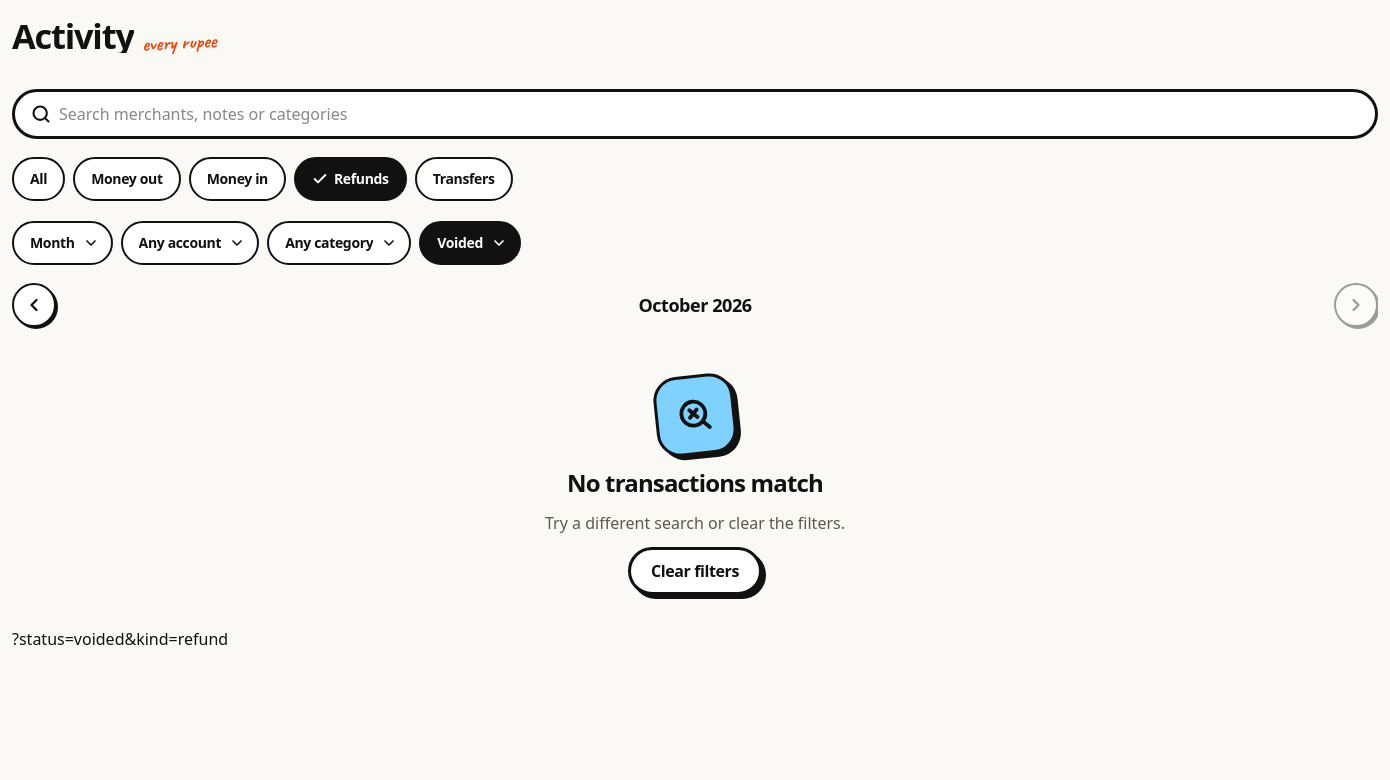
Test: Activity — filters › reads the status from the URL and clears it with the other filters
The width and height of the screenshot is (1390, 780).
Check: the label named "Status" holds "voided", box [419,221,521,265]
Click the button "Clear filters".
click(695, 571)  # box [628,547,762,595]
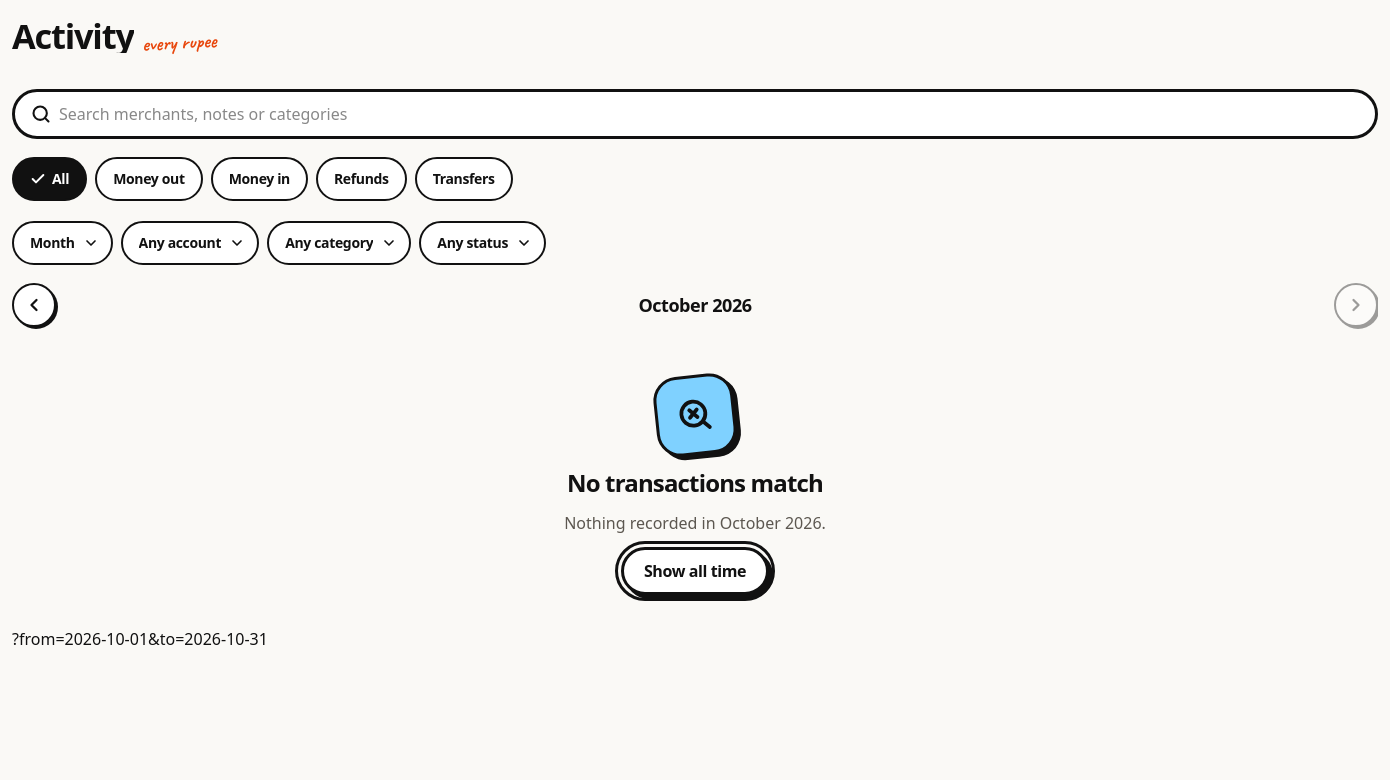
Check: the text with test id "location" no longer shows "status=", box [12,628,268,650]
